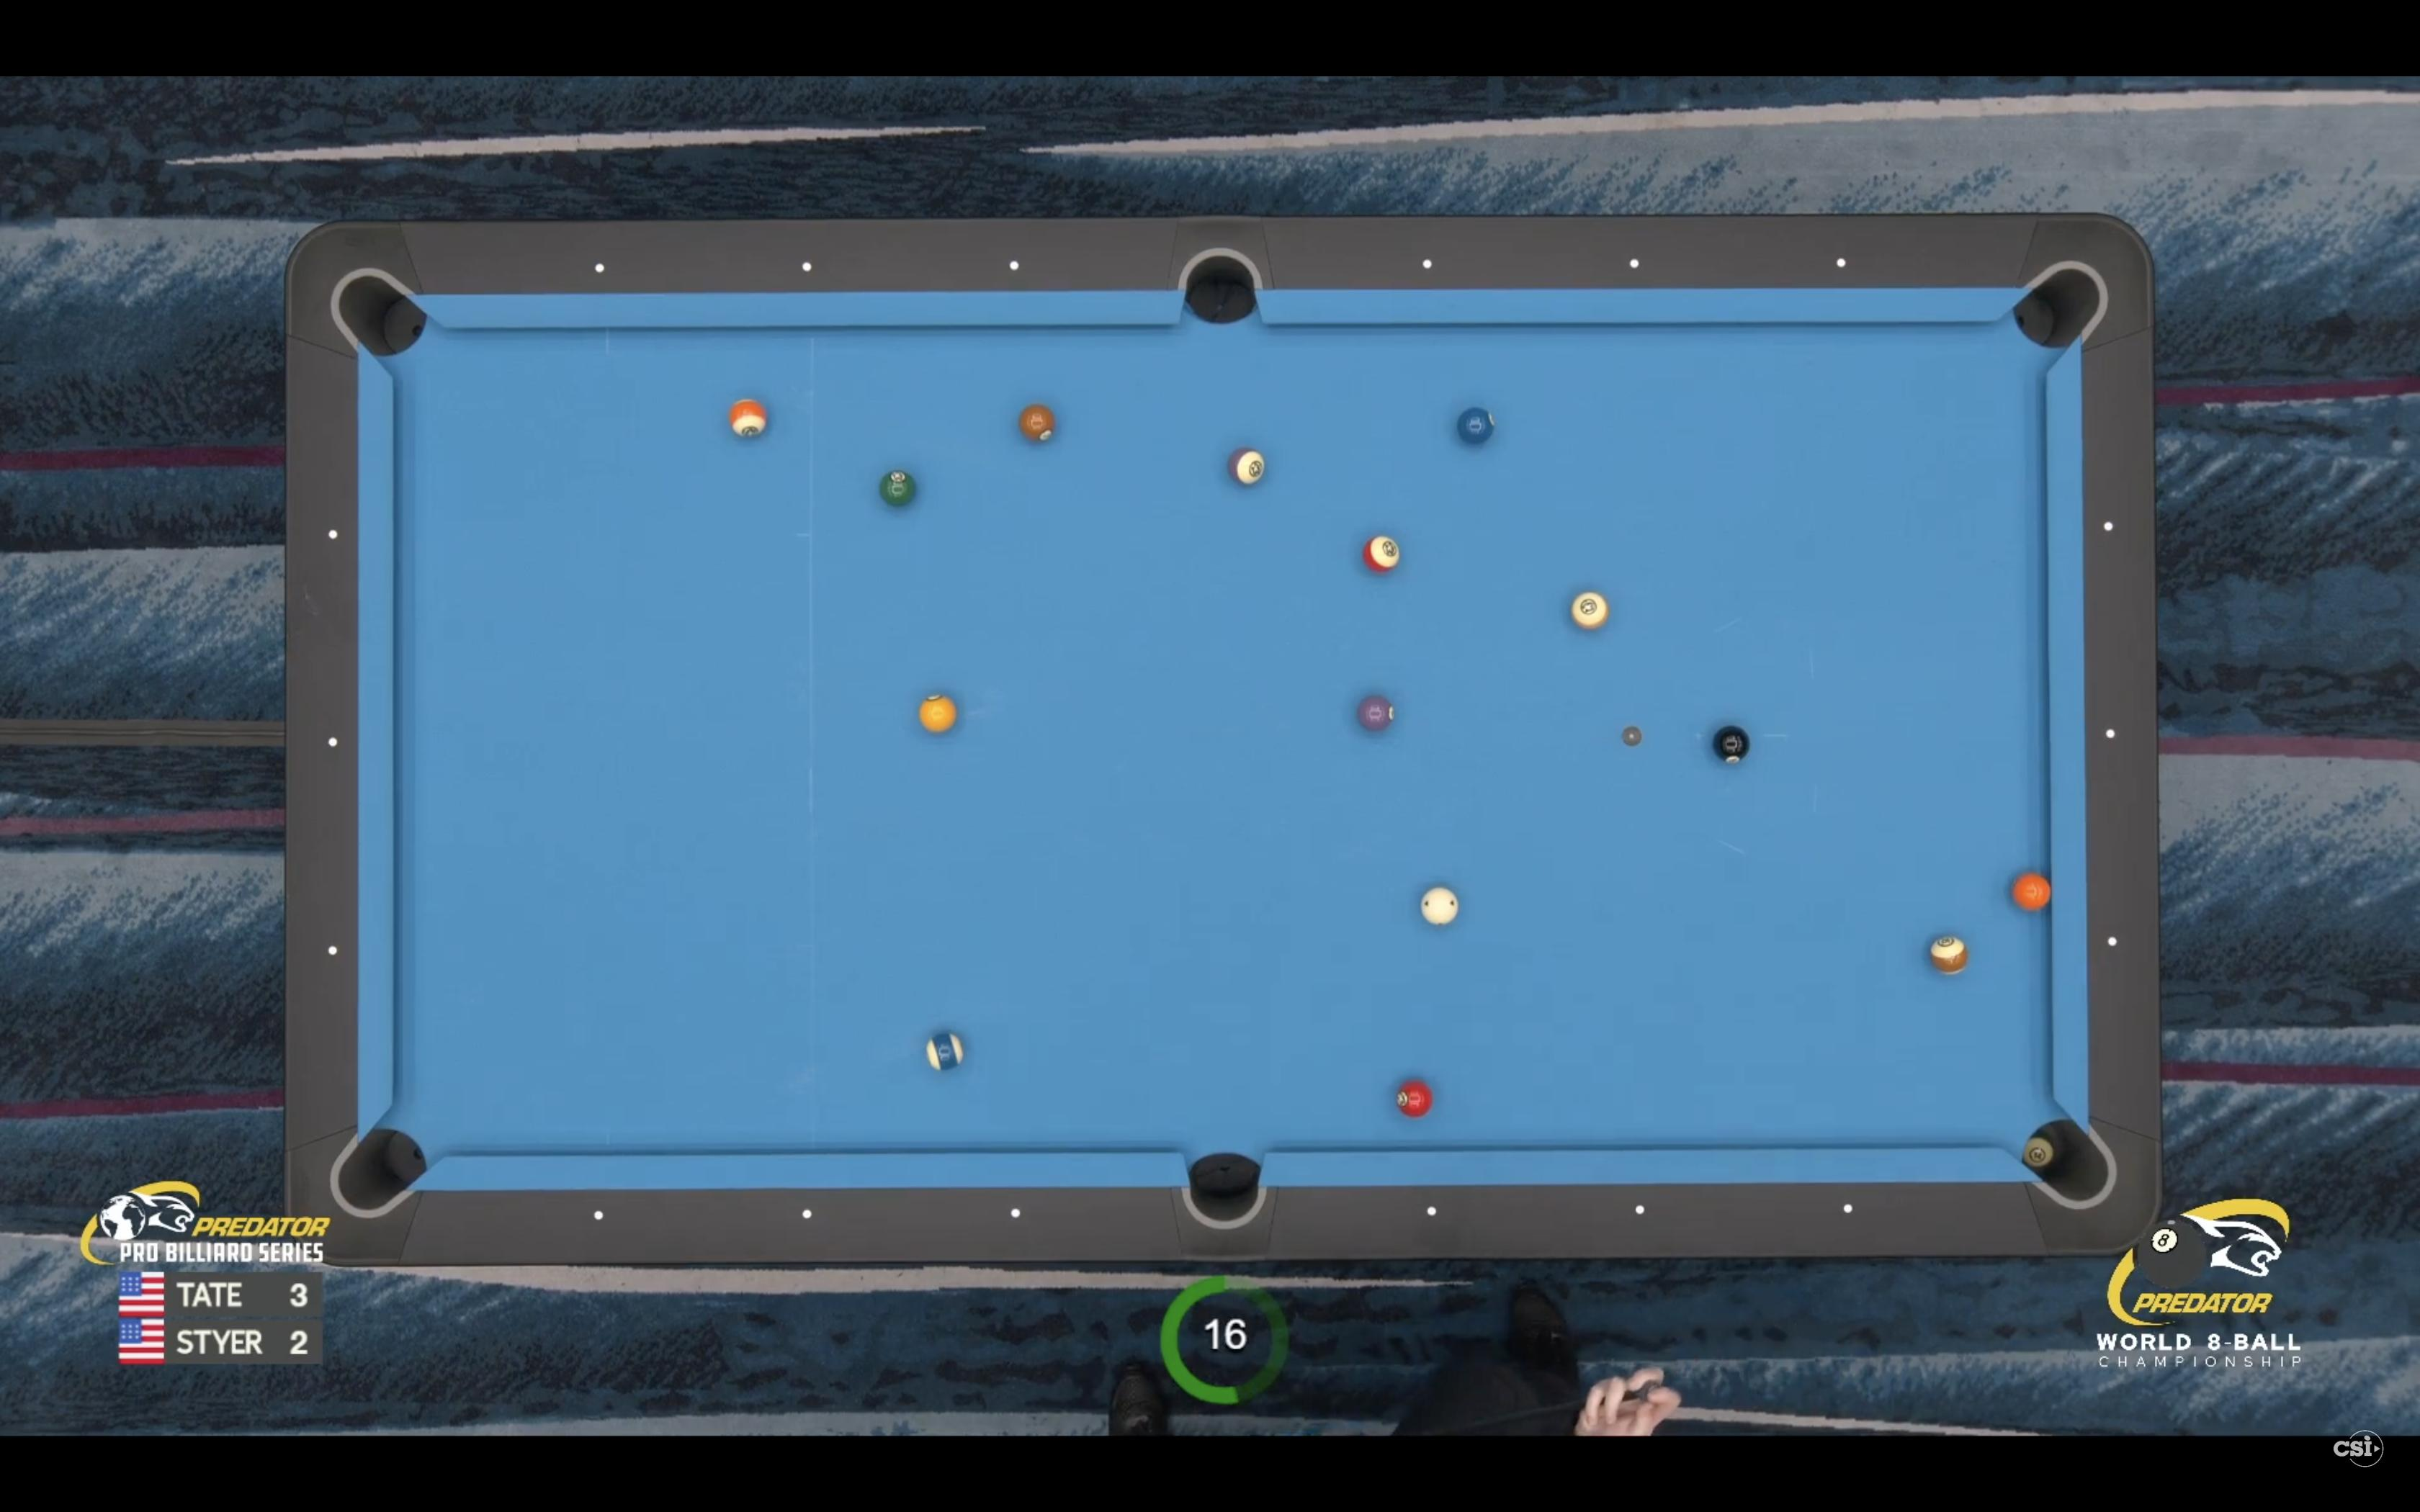Black: (1711, 723, 1751, 766)
Cue: (1420, 885, 1460, 928)
Dot: (1009, 1205, 1023, 1219), (2106, 935, 2119, 948), (1422, 258, 1434, 270), (328, 737, 340, 747), (328, 944, 338, 956), (594, 1209, 605, 1221), (801, 1209, 814, 1219), (328, 530, 338, 540), (1836, 258, 1847, 268), (1629, 258, 1639, 268), (801, 261, 812, 272), (1634, 1205, 1646, 1214), (1842, 1204, 1854, 1212), (1427, 1207, 1437, 1216), (2105, 521, 2113, 531), (594, 263, 605, 272), (2106, 728, 2115, 737)
Solid: (916, 692, 958, 733), (1396, 1077, 1436, 1120), (2011, 873, 2052, 913), (878, 467, 918, 507), (1457, 406, 1497, 446), (1355, 695, 1397, 733), (1019, 402, 1058, 444)
Striped: (727, 397, 770, 441), (1929, 934, 1970, 979), (1361, 533, 1403, 577), (923, 1031, 963, 1073), (1227, 446, 1267, 486), (1572, 589, 1610, 631)
